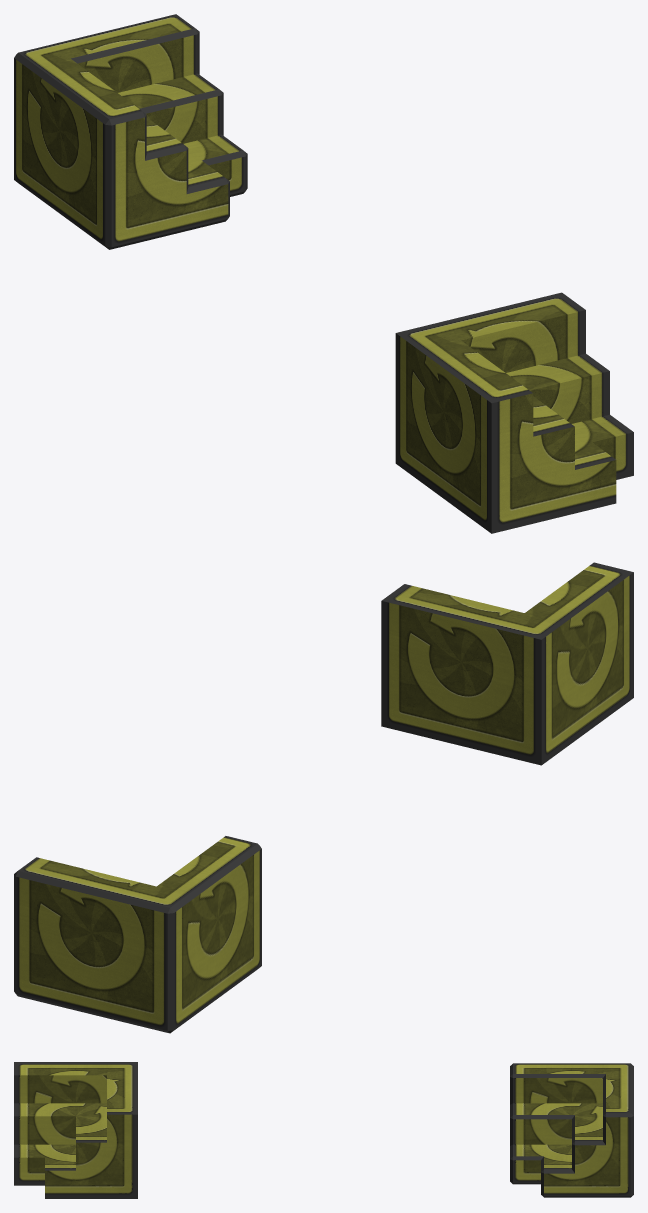
File: insetStep4.insideCorner.fbx
The picture shows the model from 3 angles, top to bottom: view 1: azimuth 30°, elevation 25°; view 2: azimuth 150°, elevation 25°; view 3: azimuth 270°, elevation 25°; orthographic projection. The views are drawn at different scales.
Visible parts, largest first — view 1: MESH insetStep4.insideCorner, MESH insetStep4.insideCorner.c; view 2: MESH insetStep4.insideCorner, MESH insetStep4.insideCorner.c; view 3: MESH insetStep4.insideCorner, MESH insetStep4.insideCorner.c.
Boxes of the visible parts, x1,y1,x2,y2 form: MESH insetStep4.insideCorner: [395, 292, 633, 533]; MESH insetStep4.insideCorner.c: [14, 14, 247, 249]; MESH insetStep4.insideCorner: [381, 562, 633, 765]; MESH insetStep4.insideCorner.c: [14, 836, 261, 1033]; MESH insetStep4.insideCorner: [14, 1062, 137, 1198]; MESH insetStep4.insideCorner.c: [510, 1063, 633, 1197].
Size of the model in its own units: 100 by 75 by 500.
